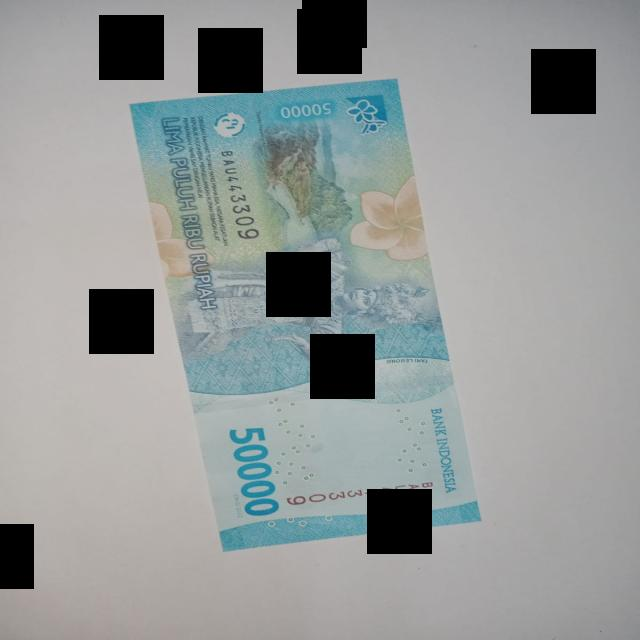lima puluh ribu rupiah: (132, 80, 480, 550)
